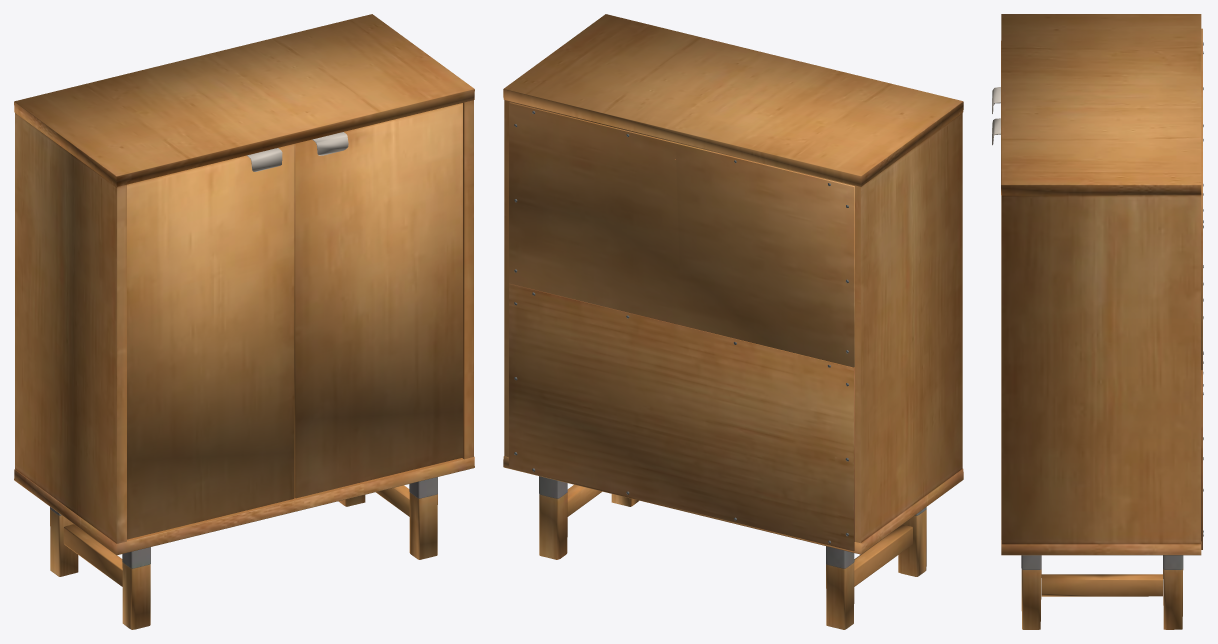
Rendered from abo-B0853Q7C48.glb.
3 views of the same model, side by side, from view 1: azimuth 30°, elevation 25°; view 2: azimuth 150°, elevation 25°; view 3: azimuth 270°, elevation 25° (orthographic). The views are drawn at different scales.
Visible parts, largest first — view 1: RootNode; view 2: RootNode; view 3: RootNode.
Boxes of the visible parts, bbox=[...] form: RootNode: bbox=[14, 14, 474, 629]; RootNode: bbox=[503, 14, 963, 629]; RootNode: bbox=[992, 14, 1203, 629].
Size of the model in its own units: 0.7993 by 1 by 0.4184.
Materials: 1 (1 with a texture image).
